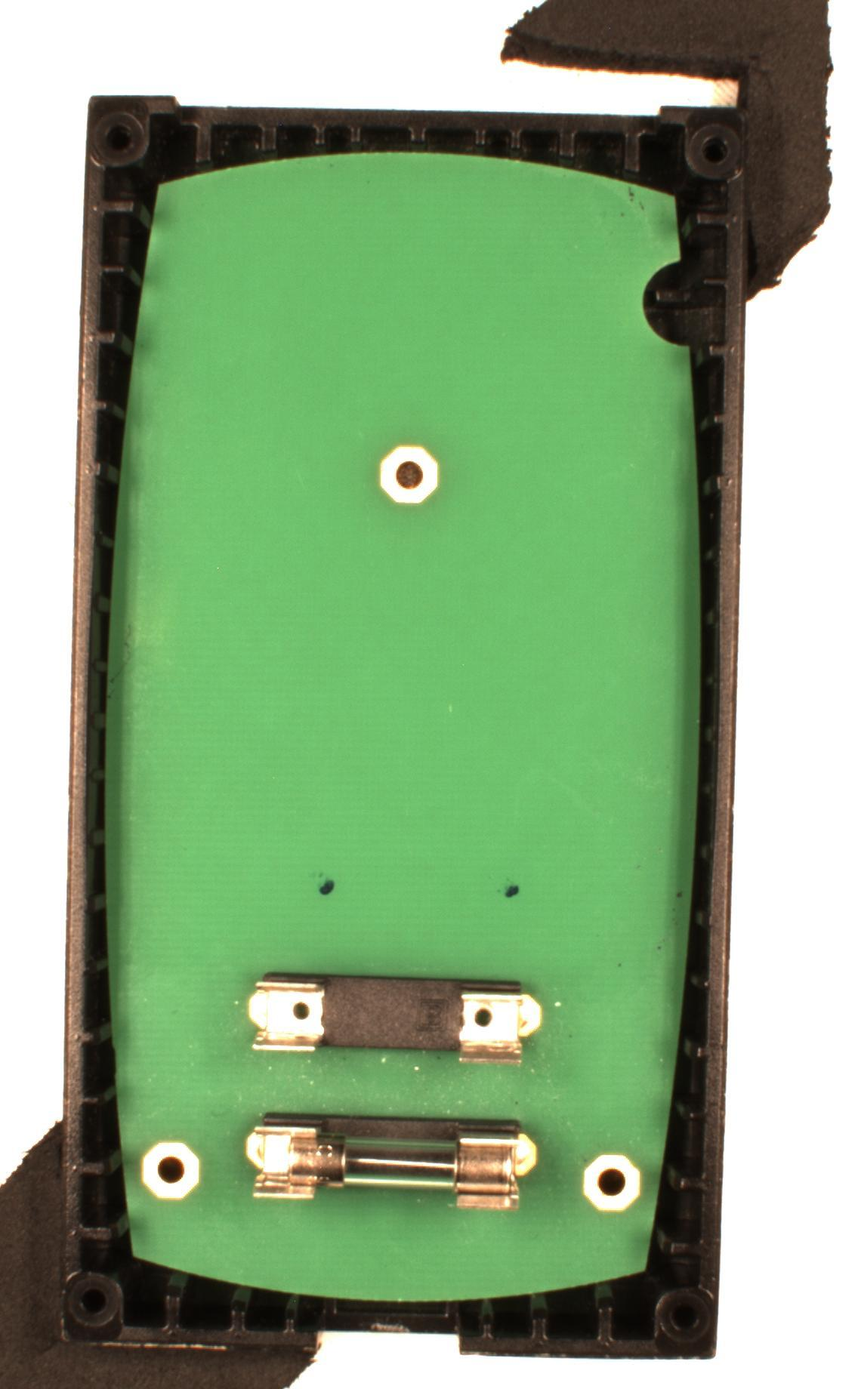Nepostojanje osiguraca: (247, 971, 543, 1068)
Tockasto Ostecenje: (316, 875, 336, 896), (504, 883, 521, 900)
